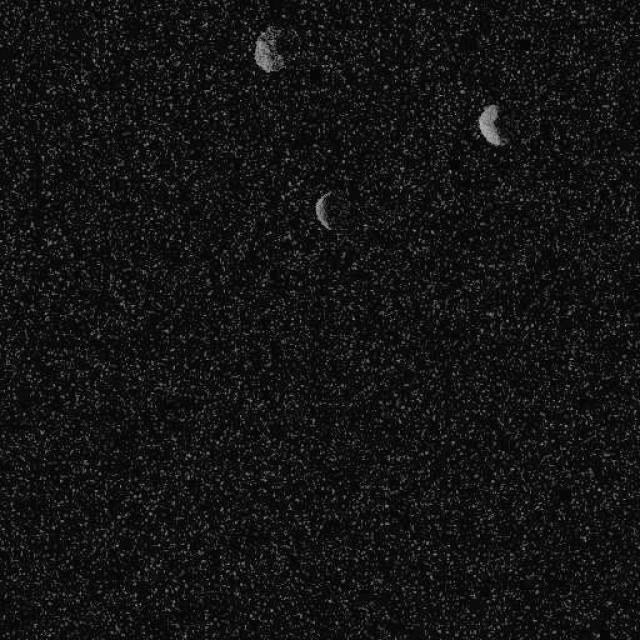D2: (251, 24, 285, 74), (476, 102, 504, 146), (314, 190, 334, 230)
